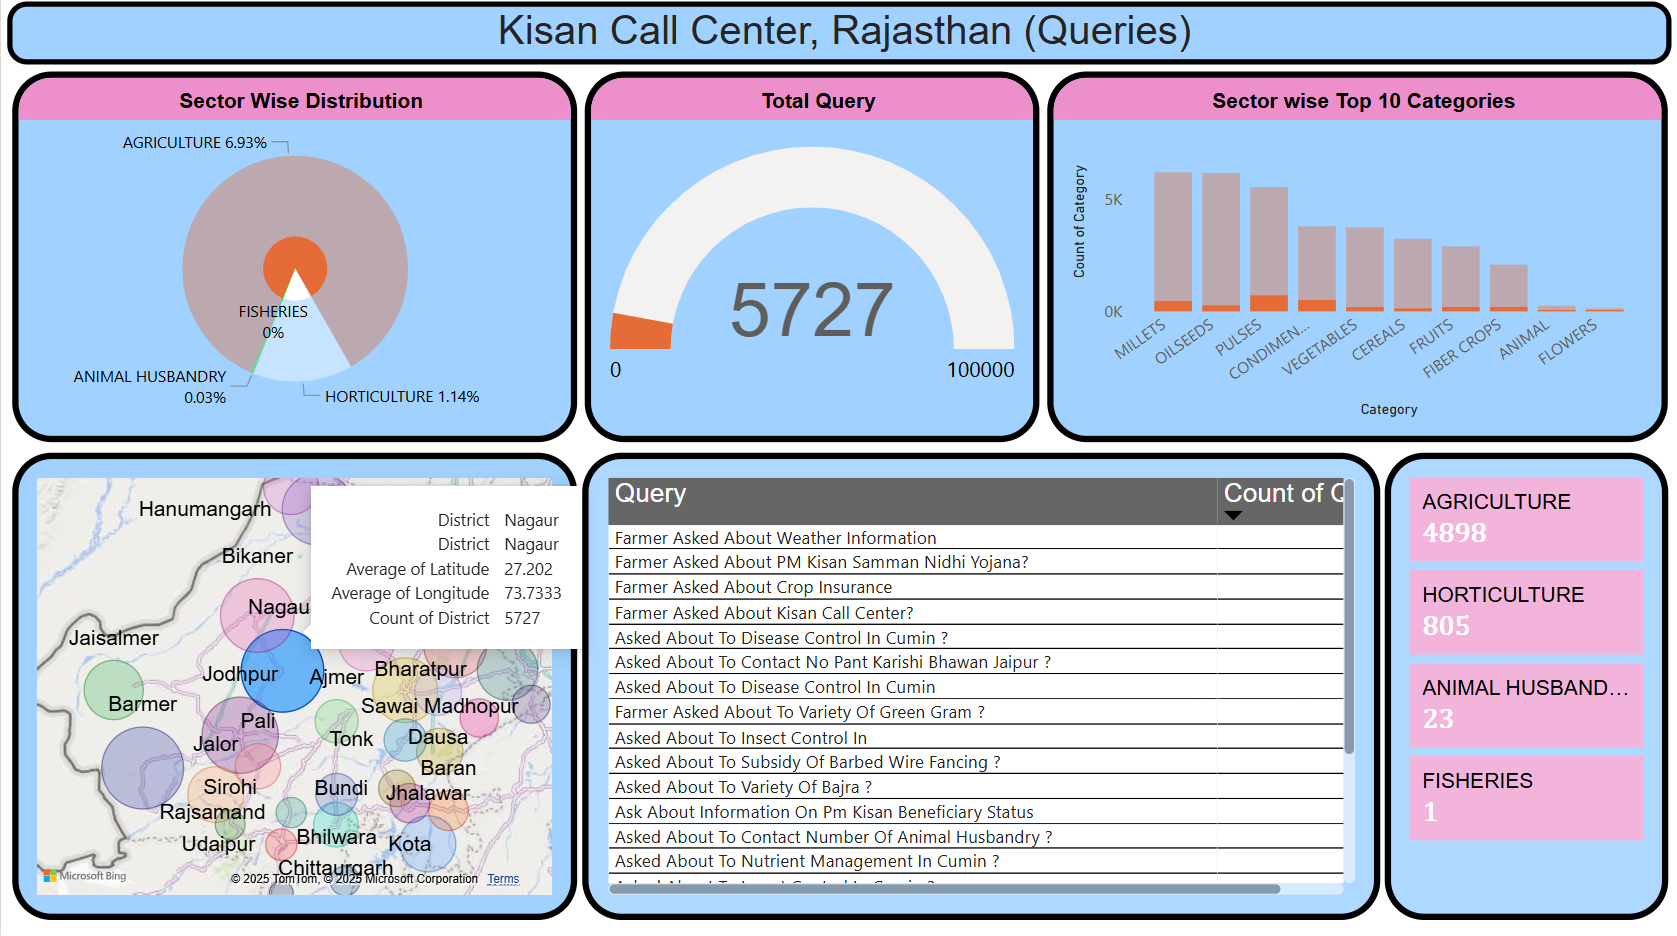

This screenshot's page, from the dashboard's own definition file:
{"tool":"powerbi","page":{"name":"Dashboard","canvas":[1280,720],"ordinal":0},"visuals":[{"type":"map","title":"District Wise Query","fields":{"Size":["CountNonNull(Cleaned.District)"],"Category":["Location (2).District"],"Series":["Location (2).District"],"Y":["Avg(Location (2).Latitude)"],"X":["Avg(Location (2).Longitude)"]},"box":[8.4,346.2,430.7,359.5],"z":0},{"type":"clusteredColumnChart","title":"Top 10 Category Wise Query","fields":{"Category":["Table1_15.Category"],"Y":["CountNonNull(Table1_15.Category)"]},"box":[8.4,51.9,422.3,289.5],"z":1000},{"type":"gauge","title":"Total Query","fields":{"Y":["CountNonNull(Table1_15.Category)"]},"box":[439.1,51.9,445.2,289.5],"z":2000},{"type":"card","title":"Top 1 Query","fields":{"Values":["Min(Cleaned.Query)"]},"box":[443.1,346.9,608.1,33.8],"z":3000},{"type":"tableEx","fields":{"Values":["Cleaned.Query","CountNonNull(Cleaned.Query)"]},"box":[443,383.6,608,322.1],"z":4000},{"type":"pieChart","title":"Sector Wise Distribution","fields":{"Category":["Table1_15.Sector"],"Y":["CountNonNull(Table1_15.Sector)"]},"box":[894,51.9,376.4,289.5],"z":5000},{"type":"multiRowCard","fields":{"Values":["CountNonNull(Table1_15.Sector)","Table1_15.Sector"]},"box":[1054.4,349.9,216,355.9],"z":6000},{"type":"textbox","title":"Kisan Call Center, Rajasthan (Queries)","box":[4.8,2.4,1268,48.3],"z":7000}]}

Visuals, with their boxes in screenshot pixels (x1, y1, x2, y2), scaled from the page's 1280x720 canvas onto the 1677x936 screenshot:
"District Wise Query" map: detection(11, 450, 575, 917)
"Top 10 Category Wise Query" clusteredColumnChart: detection(11, 67, 564, 444)
"Total Query" gauge: detection(575, 67, 1159, 444)
"Top 1 Query" card: detection(581, 451, 1377, 495)
tableEx - Cleaned.Query x CountNonNull(Cleaned.Query): detection(580, 499, 1377, 917)
"Sector Wise Distribution" pieChart: detection(1171, 67, 1664, 444)
multiRowCard - CountNonNull(Table1_15.Sector) x Table1_15.Sector: detection(1381, 455, 1664, 918)
"Kisan Call Center, Rajasthan (Queries)" textbox: detection(6, 3, 1668, 66)
